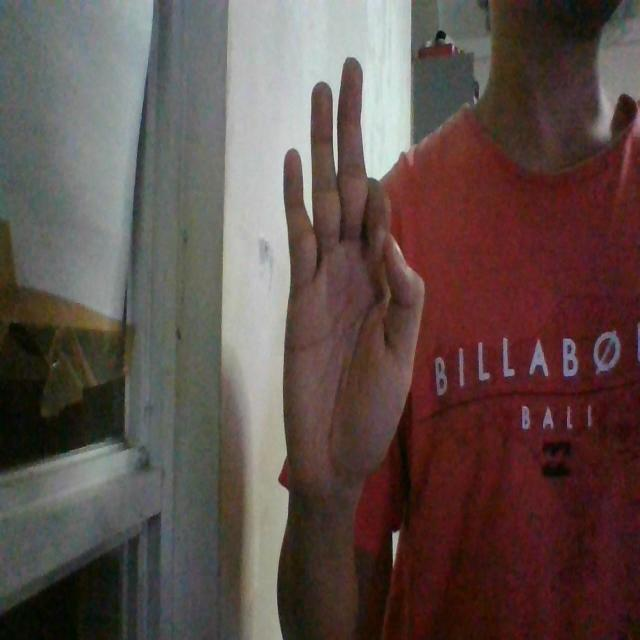F: (282, 54, 425, 497)
